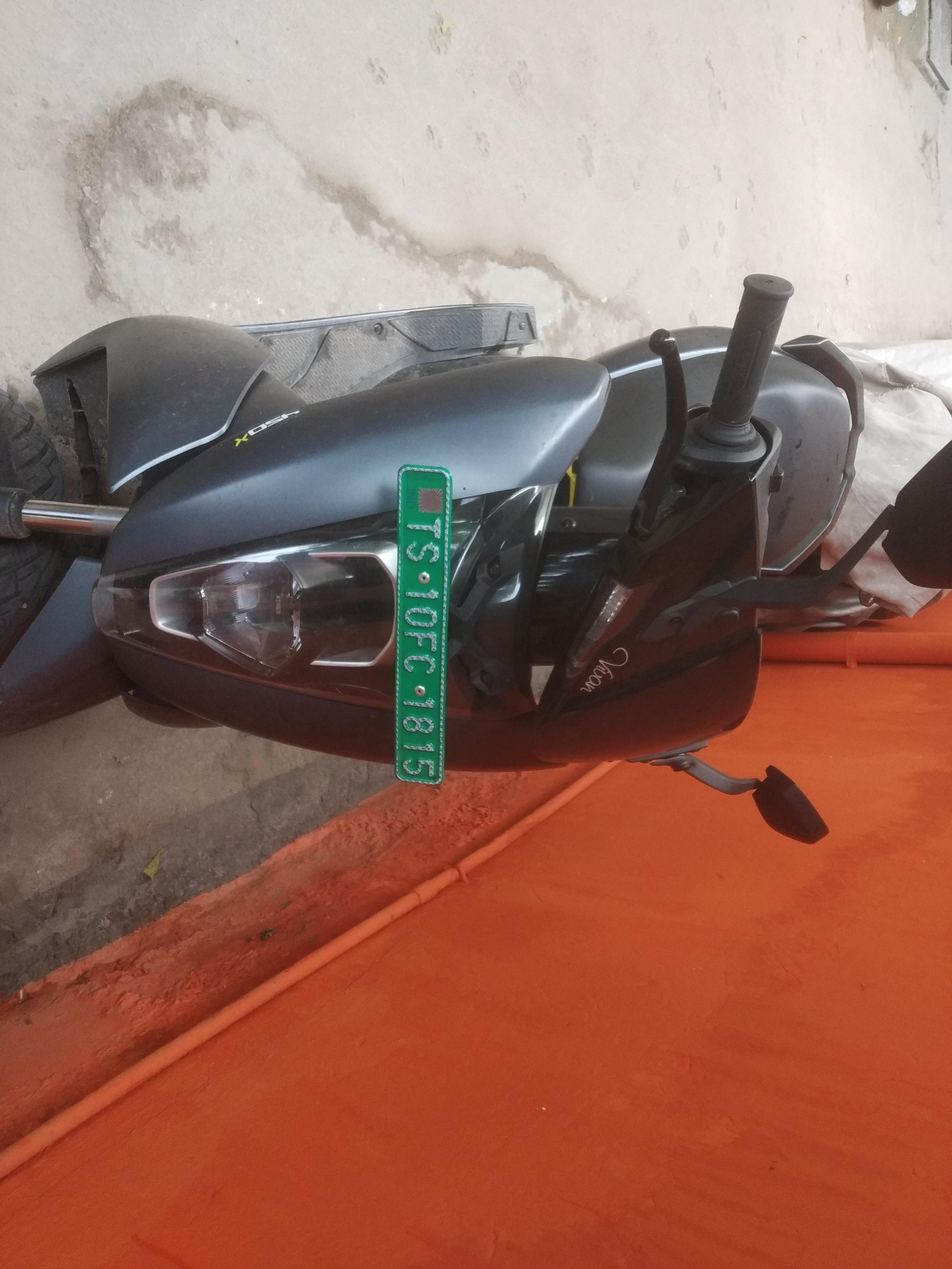green license plate: (395, 464, 451, 792)
